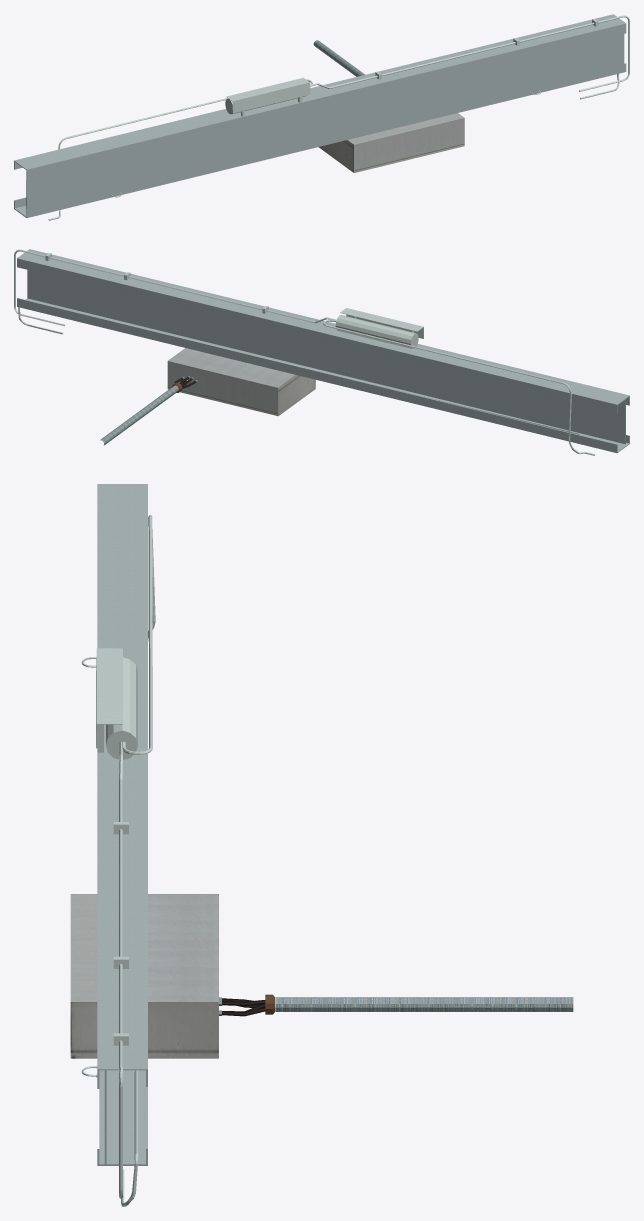
The model's file is dlq-11m892276-geode.glb.
3 views of the same model, one above another, from view 1: azimuth 30°, elevation 25°; view 2: azimuth 150°, elevation 25°; view 3: azimuth 270°, elevation 25° (orthographic). The views are drawn at different scales.
Parts seen in each view (by area): view 1: Node; view 2: Node; view 3: Node.
Part boxes in pixels (x1,y1,x2,y2): Node: (14, 14, 629, 220); Node: (14, 249, 629, 455); Node: (70, 484, 573, 1206).
Bounding box in the file's own units: 7.79 × 1.16 × 2.79.
5 materials, 5 textured.
